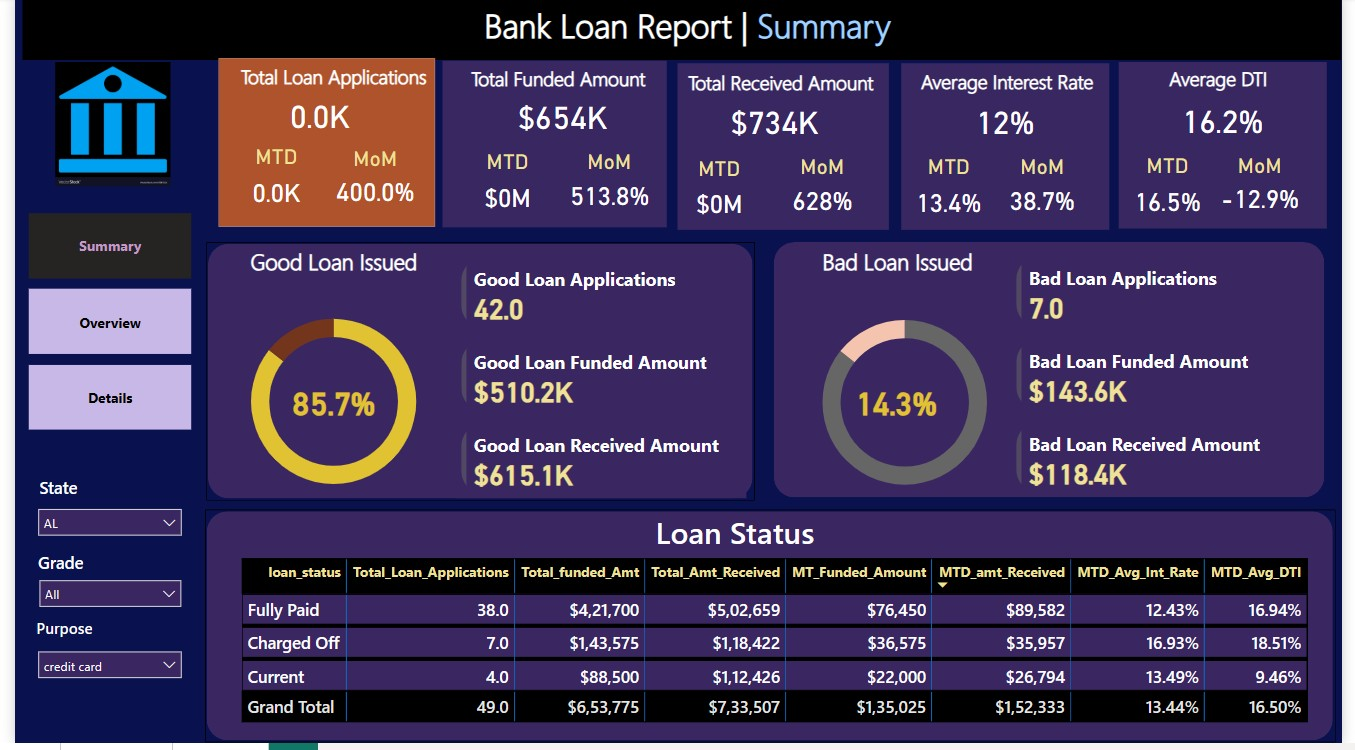

What the dashboard file says about the page in this screenshot:
{"tool":"powerbi","page":{"name":"Summary","canvas":[1280,720],"ordinal":0},"visuals":[{"type":"shape","box":[1065.1,63.3,201,160.8],"z":0,"group":"g4"},{"type":"shape","box":[854.8,63.4,201,160.8],"z":0,"group":"g3"},{"type":"shape","box":[184,236.6,529.8,250],"z":0,"group":"g5"},{"type":"shape","box":[732.8,236.6,531.4,246.7],"z":0,"group":"g6"},{"type":"shape","box":[183.8,495,1091,225.1],"z":0},{"type":"textbox","box":[7.2,0,1272.5,60.6],"z":1000},{"type":"card","fields":{"Values":["Bank_loan_data.Average_Interest_Rate"]},"box":[879.6,88.1,150,61.8],"z":1000,"group":"g3"},{"type":"card","fields":{"Values":["Bank_loan_data.Average_Debit_To_Income"]},"box":[1089.8,88.1,150,61.8],"z":1000,"group":"g4"},{"type":"donutChart","fields":{"Category":["Bank_loan_data.Good loan Vs Bad Loan"],"Y":["Bank_loan_data.Total_Loan_Applications"]},"box":[189,285.7,236.6,209.2],"z":1000,"group":"g5"},{"type":"donutChart","fields":{"Category":["Bank_loan_data.Good loan Vs Bad Loan"],"Y":["Bank_loan_data.Total_Loan_Applications"]},"box":[748.3,286.9,221.8,208.6],"z":1000,"group":"g6"},{"type":"textbox","box":[397.3,0,504,68],"z":2000},{"type":"card","title":"MTD","fields":{"Values":["Bank_loan_data.MonthToDate_Average_Interest_Rate"]},"box":[851.8,151.5,98.9,69.6],"z":2000,"group":"g3"},{"type":"card","title":"MTD","fields":{"Values":["Bank_loan_data.MonthToDate_Average_DTI"]},"box":[1062,151.5,98.9,69.6],"z":2000,"group":"g4"},{"type":"shape","box":[197,60.2,208.6,162.2],"z":3000,"group":"g1"},{"type":"shape","box":[412.5,61.8,216.4,160.8],"z":3000,"group":"g2"},{"type":"shape","box":[640,63.4,204.1,160.8],"z":3000},{"type":"card","title":"MoM","fields":{"Values":["Bank_loan_data.MonthOnMonth_Avg_Interest_Rate"]},"box":[926,151.5,129.9,64.9],"z":3000,"group":"g3"},{"type":"card","title":"MoM","fields":{"Values":["Bank_loan_data.MonthOnMonth_Avg_DTI"]},"box":[1136.2,151.5,129.9,64.9],"z":3000,"group":"g4"},{"type":"textbox","box":[1041.9,61.8,238.1,38.6],"z":4000,"group":"g4"},{"type":"textbox","box":[837.9,63.7,238.1,38.6],"z":4000,"group":"g3"},{"type":"card","fields":{"Values":["Bank_loan_data.Total_Loan_Applications"]},"box":[220.5,84.4,149.5,60.5],"z":4000,"group":"g1"},{"type":"card","fields":{"Values":["Bank_loan_data.Total_funded_Amount"]},"box":[452.8,84.9,150,60.3],"z":4000,"group":"g2"},{"type":"card","fields":{"Values":["Bank_loan_data.Total_Amount_Received"]},"box":[657,89.7,151.5,61.8],"z":4000},{"type":"card","fields":{"Values":["Bank_loan_data.Bad Loan %"]},"box":[776.7,359.2,150,62],"z":4000,"group":"g6"},{"type":"card","fields":{"Values":["Bank_loan_data.Good Loan %"]},"box":[232.3,359.3,150,62],"z":4000,"group":"g5"},{"type":"textbox","box":[197,59.7,222.2,37.5],"z":5000,"group":"g1"},{"type":"textbox","box":[405,61.8,238.1,37.1],"z":5000,"group":"g2"},{"type":"textbox","box":[619.9,64.9,238.1,38.6],"z":5000},{"type":"card","title":"MTD","fields":{"Values":["Bank_loan_data.MonthToDate_Loan_Applications"]},"box":[203.6,143,99.3,69.5],"z":6000,"group":"g1"},{"type":"card","title":"MTD","fields":{"Values":["Bank_loan_data.MTD Funded Amount"]},"box":[425.8,147.4,98.9,69.6],"z":6000,"group":"g2"},{"type":"card","title":"MTD","fields":{"Values":["Bank_loan_data.MonthToDate_Total_amount_Received"]},"box":[630.7,153,97.4,69.6],"z":6000},{"type":"card","title":"MoM","fields":{"Values":["Bank_loan_data.MonthOnMonth_Loan_Application"]},"box":[282.5,144.1,130.8,64.6],"z":7000,"group":"g1"},{"type":"card","title":"MoM","fields":{"Values":["Bank_loan_data.MonthOnMonth_Funded_Amount"]},"box":[507.7,147.4,131.4,64.9],"z":7000,"group":"g2"},{"type":"card","title":"MoM","fields":{"Values":["Bank_loan_data.MonthOnMonth_Amount_Received"]},"box":[714.2,151.5,129.9,64.9],"z":7000},{"type":"group","id":"g1","title":"Group 1","box":[197,59.7,222.2,162.8],"z":8000},{"type":"group","id":"g2","title":"Group 1","box":[405,61.8,238.1,160.8],"z":9000},{"type":"group","id":"g3","title":"Group 2","box":[837.9,63.4,238.1,160.8],"z":10000},{"type":"group","id":"g4","title":"Group 2","box":[1041.9,61.8,238.1,162.3],"z":11000},{"type":"group","id":"g5","title":"Group 3","box":[184,235.2,529.8,259.7],"z":12000},{"type":"group","id":"g6","title":"Group 3","box":[732.8,235.1,531.4,260.4],"z":13000},{"type":"tableEx","fields":{"Values":["Bank_loan_data.loan_status","Bank_loan_data.Total_Loan_Applications","Bank_loan_data.Total_funded_Amount","Bank_loan_data.Total_Amount_Received","Bank_loan_data.MTD Funded Amount","Bank_loan_data.MonthToDate_Total_amount_Received","Bank_loan_data.MTD_Average_Int_Rate","Bank_loan_data.MTD_Avg_DTI"]},"box":[211.9,536.4,1052.9,168.9],"z":14000},{"type":"textbox","box":[733.4,235.1,236.6,50.5],"z":15000,"group":"g6"},{"type":"textbox","box":[189,235.2,236.6,50.5],"z":15000,"group":"g5"},{"type":"shape","box":[509.9,488.4,369.2,48],"z":15000},{"type":"slicer","fields":{"Values":["Bank_loan_data.address_state"]},"box":[11.6,483.4,158.9,54.6],"z":16000},{"type":"shape","box":[1.7,458.6,81.1,29.8],"z":17000},{"type":"cardVisual","fields":{"Data":["Bank_loan_data.Bad Loan Applications","Bank_loan_data.Bad Loan Funded Amount","Bank_loan_data.Bad Loan Received Amount"]},"box":[961.5,247.7,279.8,235.1],"z":18000,"group":"g6"},{"type":"cardVisual","fields":{"Data":["Bank_loan_data.Good Loan Applications","Bank_loan_data.Good Loan Funded Amount","Bank_loan_data.Good Loan Received Amount"]},"box":[425.4,248.4,279.8,235.1],"z":18000,"group":"g5"},{"type":"slicer","fields":{"Values":["Bank_loan_data.grade"]},"box":[13.2,552.9,157.3,54.6],"z":18000},{"type":"slicer","fields":{"Values":["Bank_loan_data.purpose"]},"box":[11.6,620.8,158.9,56.3],"z":19000},{"type":"shape","box":[6.6,526.4,76.2,39.7],"z":20000},{"type":"shape","box":[1.2,593.6,92.9,29],"z":21000},{"type":"pageNavigator","box":[13,209.2,157.3,210.6],"z":22000},{"type":"image","box":[5.8,57.7,177.5,129.8],"z":23000}]}

Visuals, with their boxes in screenshot pixels (x1, y1, x2, y2), scaled from the page's 1280x720 canvas onto the 1355x750 screenshot:
shape: [x1=1128, y1=66, x2=1340, y2=233]
shape: [x1=905, y1=66, x2=1118, y2=234]
shape: [x1=195, y1=246, x2=756, y2=507]
shape: [x1=776, y1=246, x2=1338, y2=503]
shape: [x1=195, y1=516, x2=1349, y2=749]
textbox: [x1=8, y1=0, x2=1354, y2=63]
card - Bank_loan_data.Average_Interest_Rate: [x1=931, y1=92, x2=1090, y2=156]
card - Bank_loan_data.Average_Debit_To_Income: [x1=1154, y1=92, x2=1312, y2=156]
donutChart - Bank_loan_data.Good loan Vs Bad Loan x Bank_loan_data.Total_Loan_Applications: [x1=200, y1=298, x2=451, y2=516]
donutChart - Bank_loan_data.Good loan Vs Bad Loan x Bank_loan_data.Total_Loan_Applications: [x1=792, y1=299, x2=1027, y2=516]
textbox: [x1=421, y1=0, x2=954, y2=71]
"MTD" card: [x1=902, y1=158, x2=1006, y2=230]
"MTD" card: [x1=1124, y1=158, x2=1229, y2=230]
shape: [x1=209, y1=63, x2=429, y2=232]
shape: [x1=437, y1=64, x2=666, y2=232]
shape: [x1=678, y1=66, x2=894, y2=234]
"MoM" card: [x1=980, y1=158, x2=1118, y2=225]
"MoM" card: [x1=1203, y1=158, x2=1340, y2=225]
textbox: [x1=1103, y1=64, x2=1354, y2=105]
textbox: [x1=887, y1=66, x2=1139, y2=107]
card - Bank_loan_data.Total_Loan_Applications: [x1=233, y1=88, x2=392, y2=151]
card - Bank_loan_data.Total_funded_Amount: [x1=479, y1=88, x2=638, y2=151]
card - Bank_loan_data.Total_Amount_Received: [x1=695, y1=93, x2=856, y2=158]
card - Bank_loan_data.Bad Loan %: [x1=822, y1=374, x2=981, y2=439]
card - Bank_loan_data.Good Loan %: [x1=246, y1=374, x2=405, y2=439]
textbox: [x1=209, y1=62, x2=444, y2=101]
textbox: [x1=429, y1=64, x2=681, y2=103]
textbox: [x1=656, y1=68, x2=908, y2=108]
"MTD" card: [x1=216, y1=149, x2=321, y2=221]
"MTD" card: [x1=451, y1=154, x2=555, y2=226]
"MTD" card: [x1=668, y1=159, x2=771, y2=232]
"MoM" card: [x1=299, y1=150, x2=438, y2=217]
"MoM" card: [x1=537, y1=154, x2=677, y2=221]
"MoM" card: [x1=756, y1=158, x2=894, y2=225]
"Group 1" group: [x1=209, y1=62, x2=444, y2=232]
"Group 1" group: [x1=429, y1=64, x2=681, y2=232]
"Group 2" group: [x1=887, y1=66, x2=1139, y2=234]
"Group 2" group: [x1=1103, y1=64, x2=1354, y2=233]
"Group 3" group: [x1=195, y1=245, x2=756, y2=516]
"Group 3" group: [x1=776, y1=245, x2=1338, y2=516]
tableEx - Bank_loan_data.loan_status x Bank_loan_data.Total_Loan_Applications: [x1=224, y1=559, x2=1339, y2=735]
textbox: [x1=776, y1=245, x2=1027, y2=298]
textbox: [x1=200, y1=245, x2=451, y2=298]
shape: [x1=540, y1=509, x2=931, y2=559]
slicer - Bank_loan_data.address_state: [x1=12, y1=504, x2=180, y2=560]
shape: [x1=2, y1=478, x2=88, y2=509]
cardVisual - Bank_loan_data.Bad Loan Applications x Bank_loan_data.Bad Loan Funded Amount: [x1=1018, y1=258, x2=1314, y2=503]
cardVisual - Bank_loan_data.Good Loan Applications x Bank_loan_data.Good Loan Funded Amount: [x1=450, y1=259, x2=747, y2=504]
slicer - Bank_loan_data.grade: [x1=14, y1=576, x2=180, y2=633]
slicer - Bank_loan_data.purpose: [x1=12, y1=647, x2=180, y2=705]
shape: [x1=7, y1=548, x2=88, y2=590]
shape: [x1=1, y1=618, x2=100, y2=649]
pageNavigator: [x1=14, y1=218, x2=180, y2=437]
image: [x1=6, y1=60, x2=194, y2=195]
